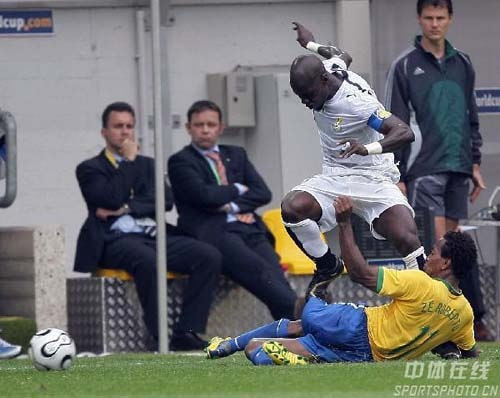falling: (205, 202, 495, 367)
